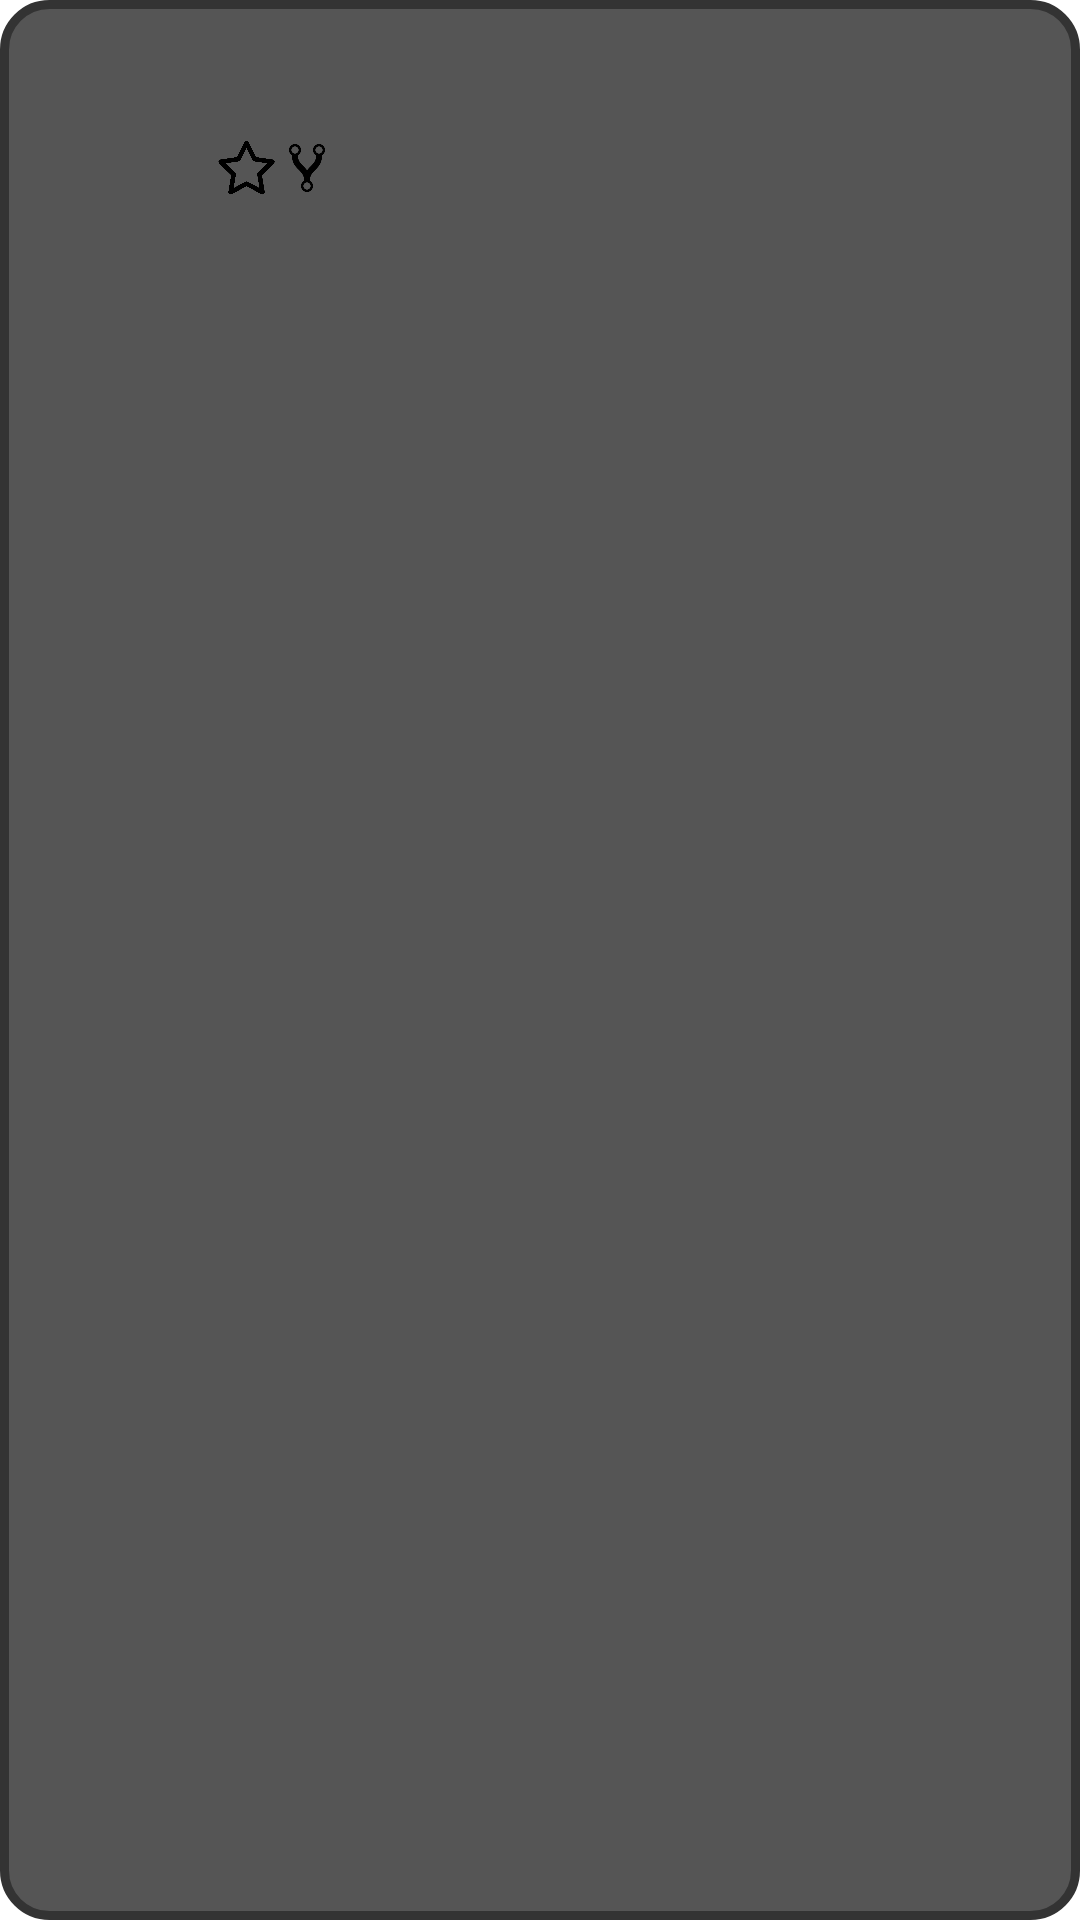

Named icons in this screenshot (1080px×1920px) and their bounding boxes, (x1, y1, x2, y2):
fork: (289, 144, 325, 192)
stars: (218, 141, 275, 194)
